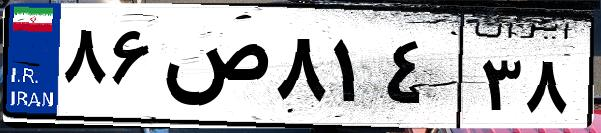1: (330, 28, 385, 110)
3: (475, 38, 525, 113)
4: (385, 28, 445, 110)
6: (110, 28, 158, 98)
8: (270, 28, 330, 110), (57, 26, 110, 100), (525, 38, 570, 115)
ص: (158, 20, 270, 120)
